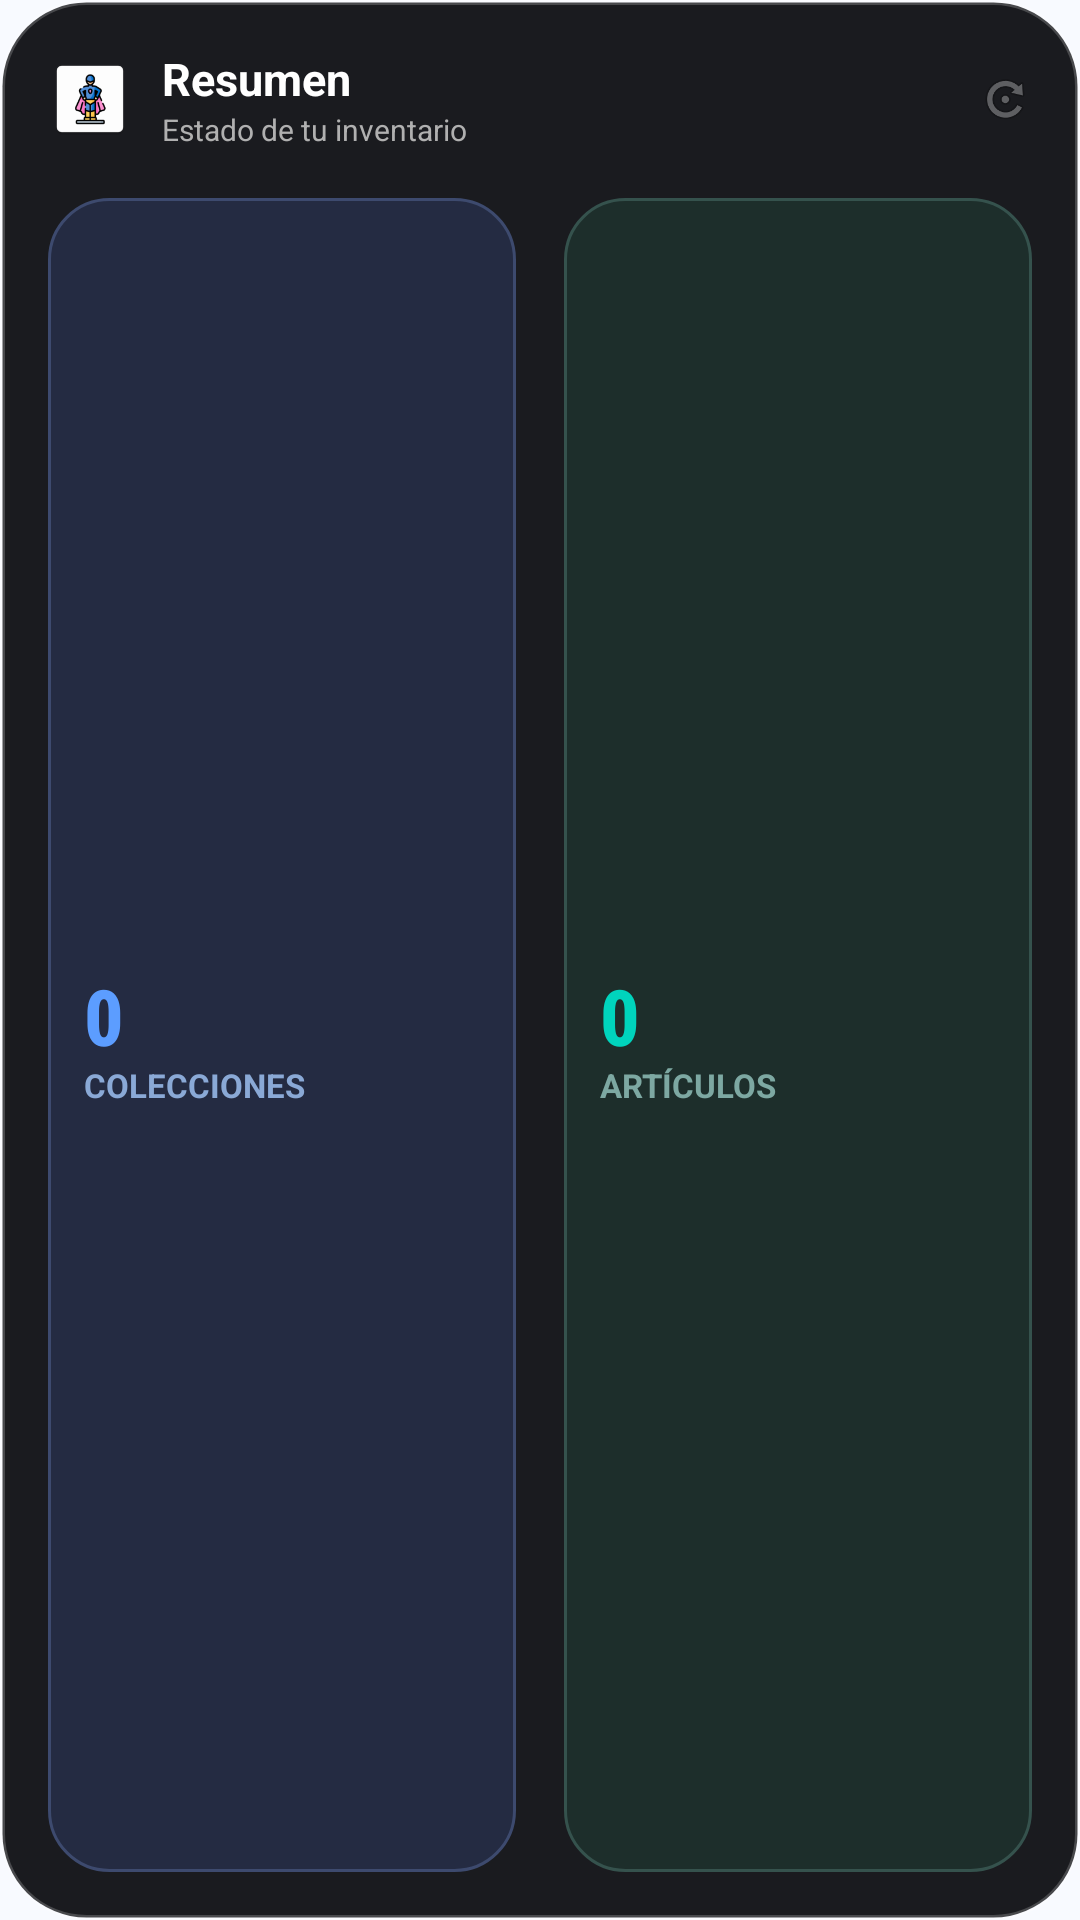

Point at icon controls on the screen. Image size 1080 x 1920, points as [x,y].
Refresh icon: [1005,99]
